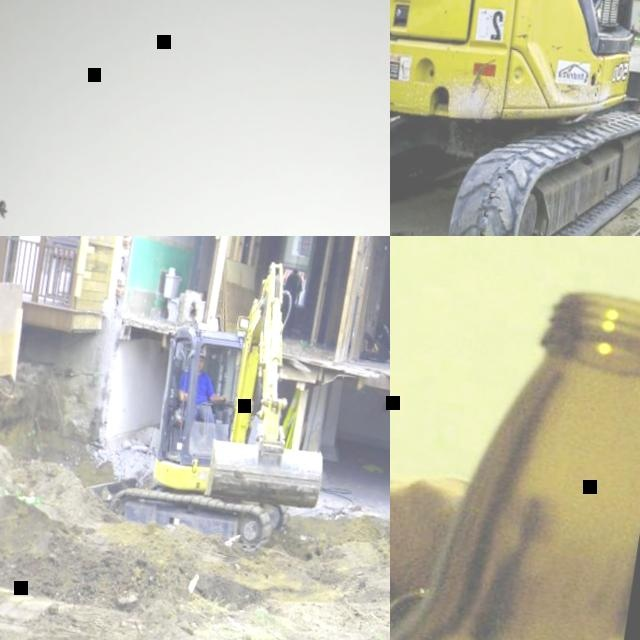NO-Hardhat: (195, 346, 208, 358)
NO-Mask: (196, 365, 202, 373)
NO-Safety Vest: (180, 369, 211, 404)
Person: (390, 236, 529, 640), (170, 345, 236, 446), (278, 266, 306, 321)
machinery: (76, 239, 352, 561), (390, 0, 640, 236)
